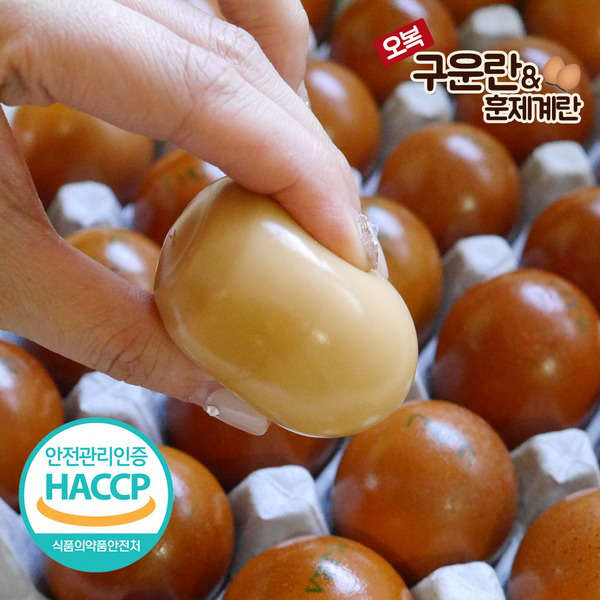egg: (3, 1, 600, 596), (155, 166, 418, 441)
